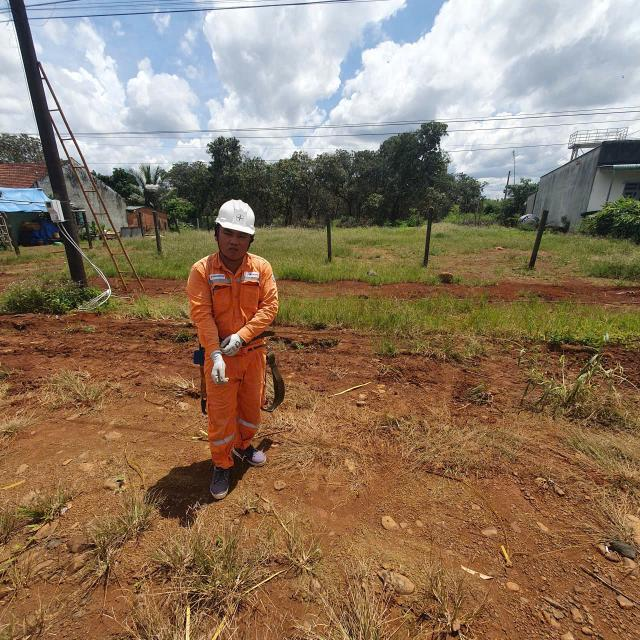gloves: (209, 348, 229, 397), (216, 333, 246, 357)
helmet: (206, 199, 259, 240)
shoes: (228, 442, 274, 468), (204, 455, 229, 501)
